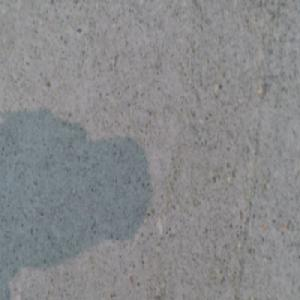Washer: (158, 290, 180, 299)
